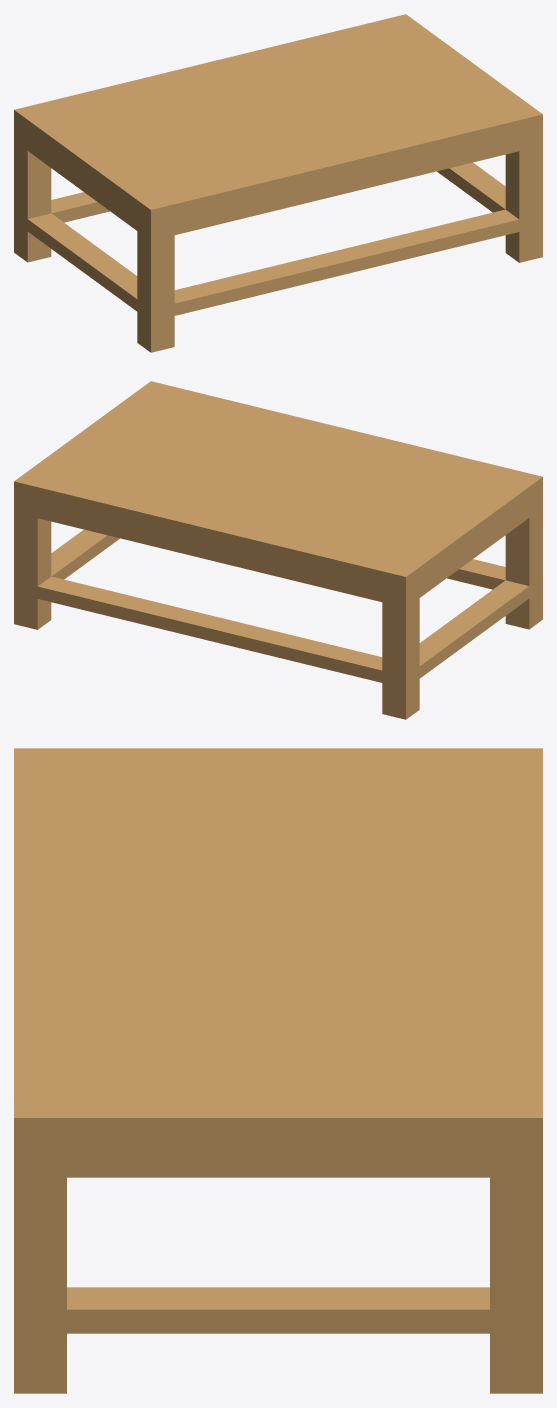
Rendered from tableCoffee.glb.
3 views of the same model, one above another, from view 1: azimuth 30°, elevation 25°; view 2: azimuth 150°, elevation 25°; view 3: azimuth 270°, elevation 25° (orthographic). The views are drawn at different scales.
Size of the model in its own units: 6.61 by 2.3 by 4.
